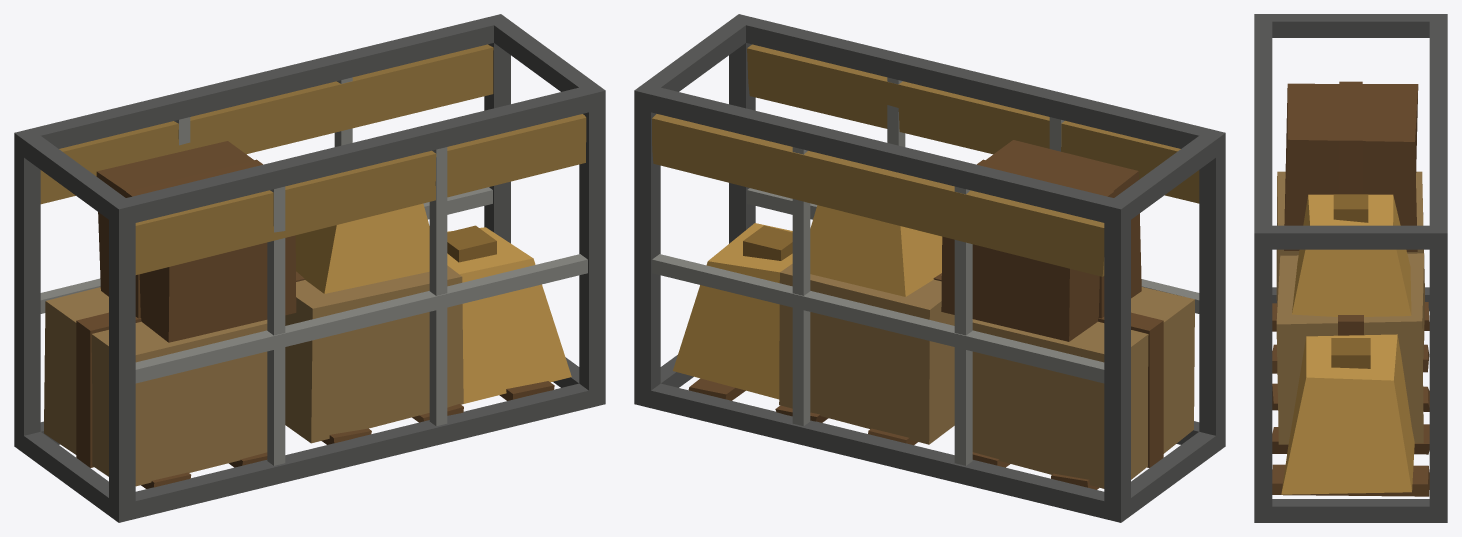
File: cargo_rack_loaded.glb
3 views of the same model, side by side, from view 1: azimuth 30°, elevation 25°; view 2: azimuth 150°, elevation 25°; view 3: azimuth 270°, elevation 25° (orthographic). The views are drawn at different scales.
Parts seen in each view (by area): view 1: cargo_rack_loaded; view 2: cargo_rack_loaded; view 3: cargo_rack_loaded.
Part boxes in pixels (<box>): cargo_rack_loaded: <box>14,14,605,522</box>; cargo_rack_loaded: <box>634,14,1225,522</box>; cargo_rack_loaded: <box>1254,14,1447,522</box>.
Size of the model in its own units: 1.3 by 0.8 by 0.484.
